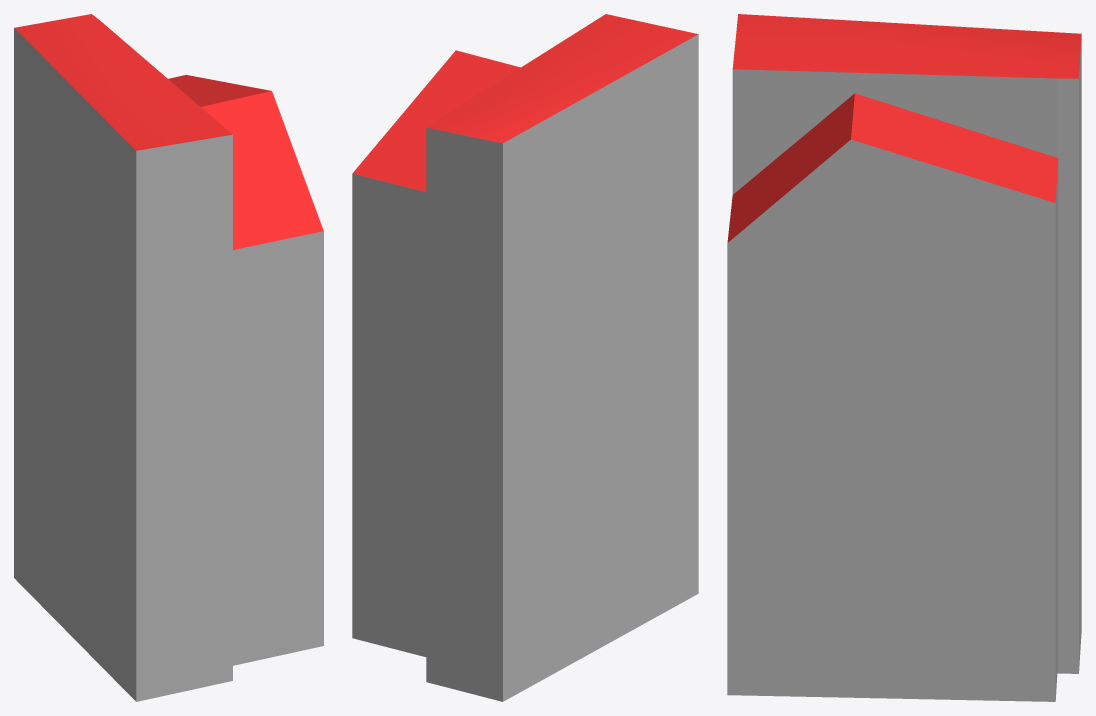
Rendered from DEBE3D04YY50000AW4.dae.
3 views of the same model, side by side, from view 1: azimuth 30°, elevation 25°; view 2: azimuth 150°, elevation 25°; view 3: azimuth 270°, elevation 25° (orthographic). The views are drawn at different scales.
Size of the model in its own units: 9.42 by 13.57 by 25.4.
